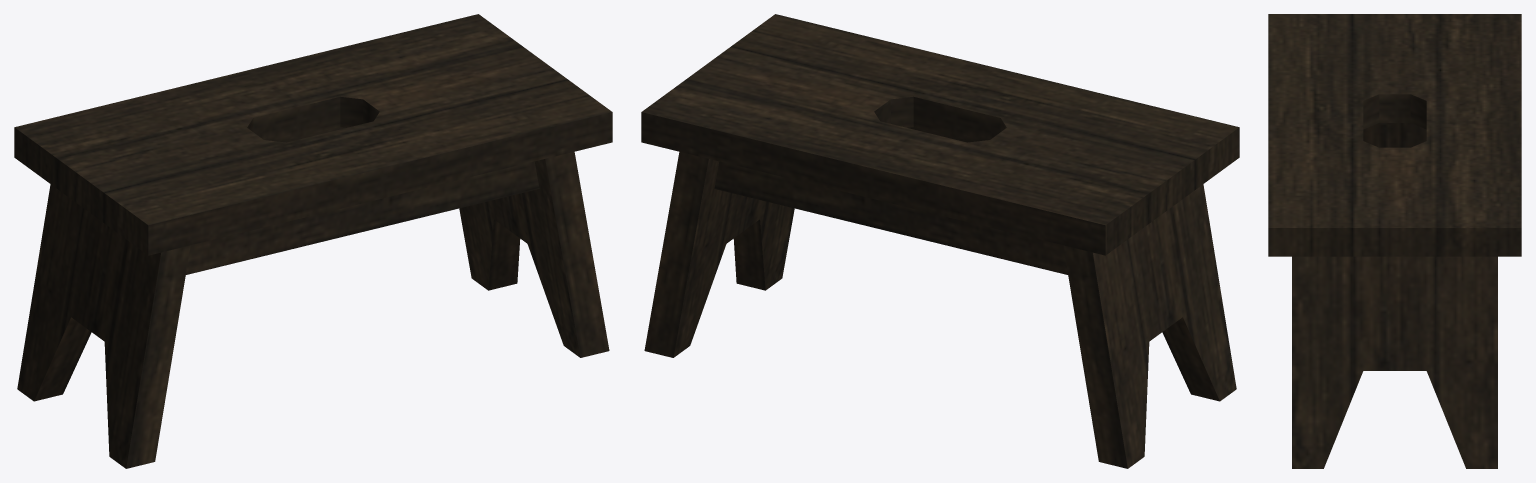
File: stool_mx_1.obj
3 views of the same model, side by side, from view 1: azimuth 30°, elevation 25°; view 2: azimuth 150°, elevation 25°; view 3: azimuth 270°, elevation 25° (orthographic). The views are drawn at different scales.
Visible parts, largest first — view 1: stool_mx_1; view 2: stool_mx_1; view 3: stool_mx_1.
Part boxes in pixels (bbox=[...]): stool_mx_1: bbox=[14, 14, 612, 468]; stool_mx_1: bbox=[641, 14, 1239, 468]; stool_mx_1: bbox=[1268, 14, 1521, 468].
Bounding box in the file's own units: 0.6665 × 0.33 × 0.32.
